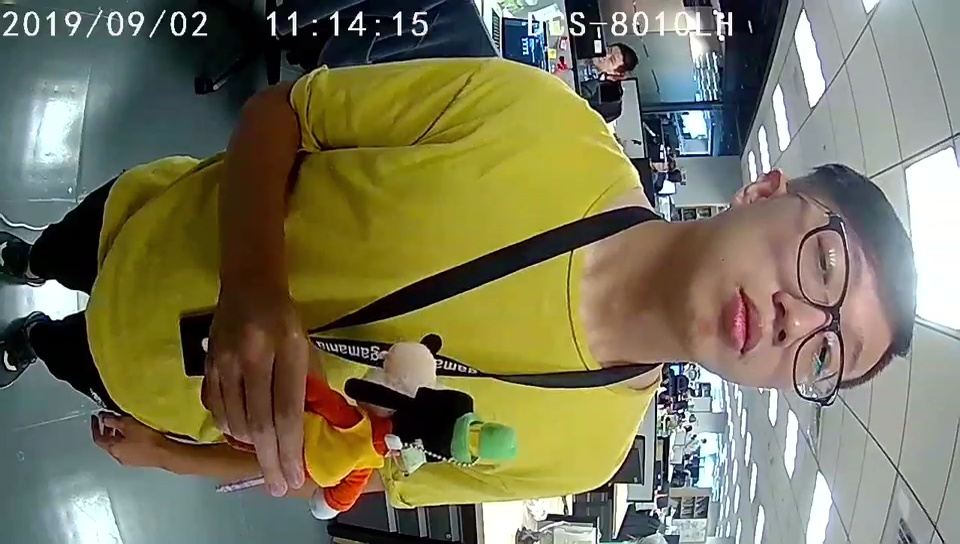goofy: (308, 378, 517, 520)
